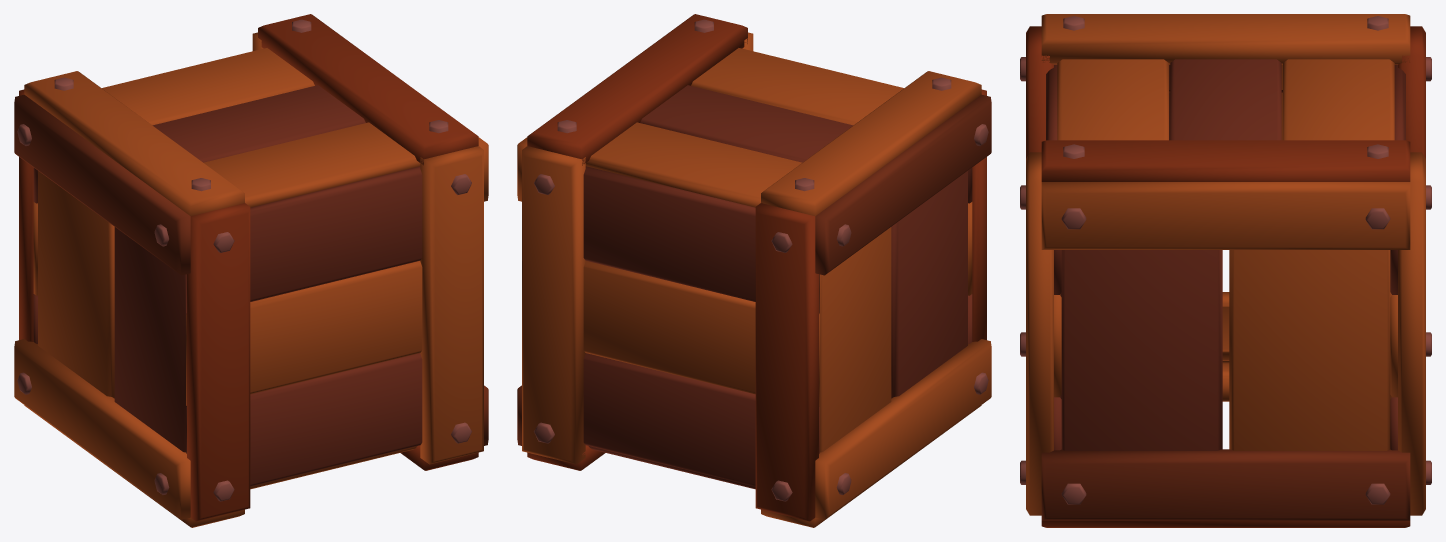
The picture shows the model from 3 angles, left to right: view 1: azimuth 30°, elevation 25°; view 2: azimuth 150°, elevation 25°; view 3: azimuth 270°, elevation 25°; orthographic projection. The views are drawn at different scales.
Visible parts, largest first — view 1: Vert.051; view 2: Vert.051; view 3: Vert.051.
Boxes of the visible parts, x1=… form: Vert.051: x1=14, y1=14, x2=488, y2=527; Vert.051: x1=517, y1=14, x2=991, y2=527; Vert.051: x1=1020, y1=14, x2=1431, y2=527.
Bounding box in the file's own units: 103 × 103 × 103.
